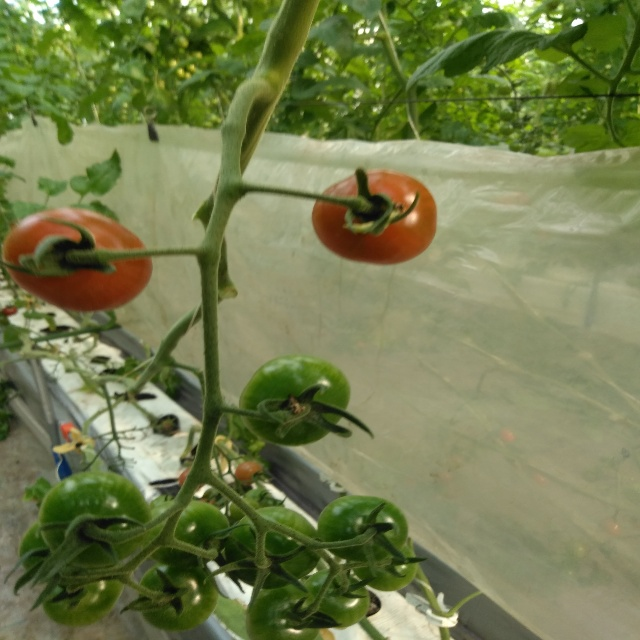l_green: (37, 470, 152, 569), (238, 354, 350, 447), (225, 506, 321, 591), (318, 494, 408, 564), (142, 499, 230, 568), (136, 562, 219, 632), (41, 562, 126, 628), (245, 584, 322, 640), (302, 569, 369, 628), (348, 544, 417, 593), (18, 519, 68, 579)
l_half_ripened: (1, 208, 154, 312), (310, 169, 438, 265)
